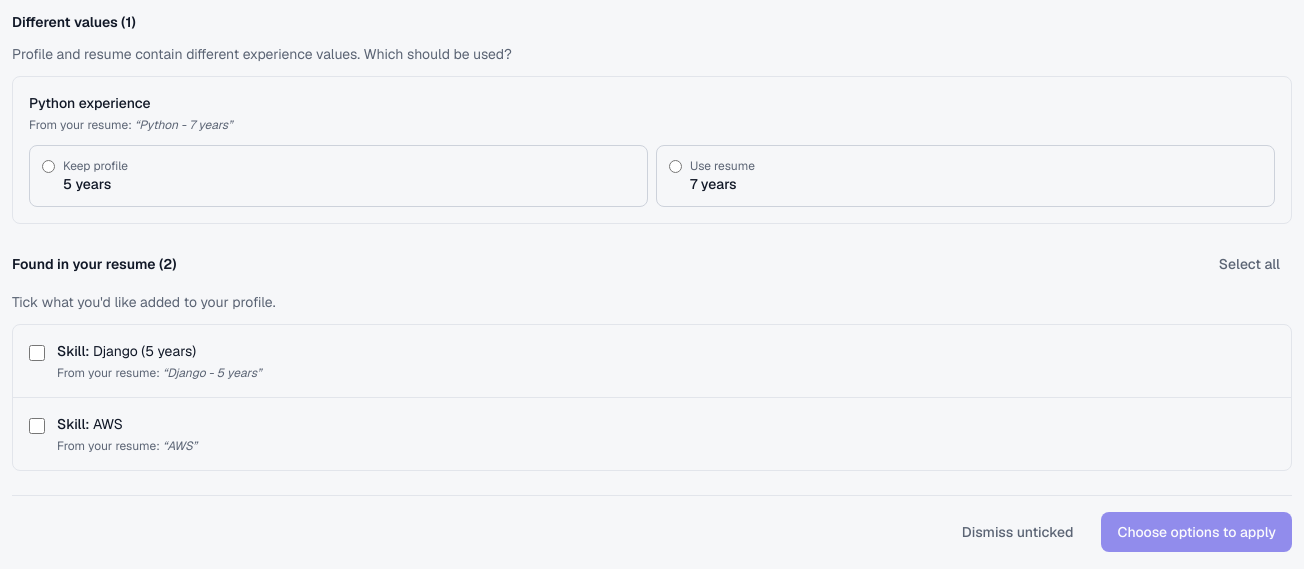
Scenario: ResumeReview › applies nothing until the user chooses, then sends exactly their choices
Expected: the button "Choose options to apply" is disabled, x1=1102 y1=512 x2=1292 y2=552
Expected: the text "Profile and resume contain different experience values. Which should be used?" is shown, x1=12 y1=45 x2=512 y2=63
What coordinates should you click on to do the following:
click the radio button with aria-label "Use resume: 7 years"
I would click on:
 (676, 166)
Its box is x1=669 y1=160 x2=682 y2=173.
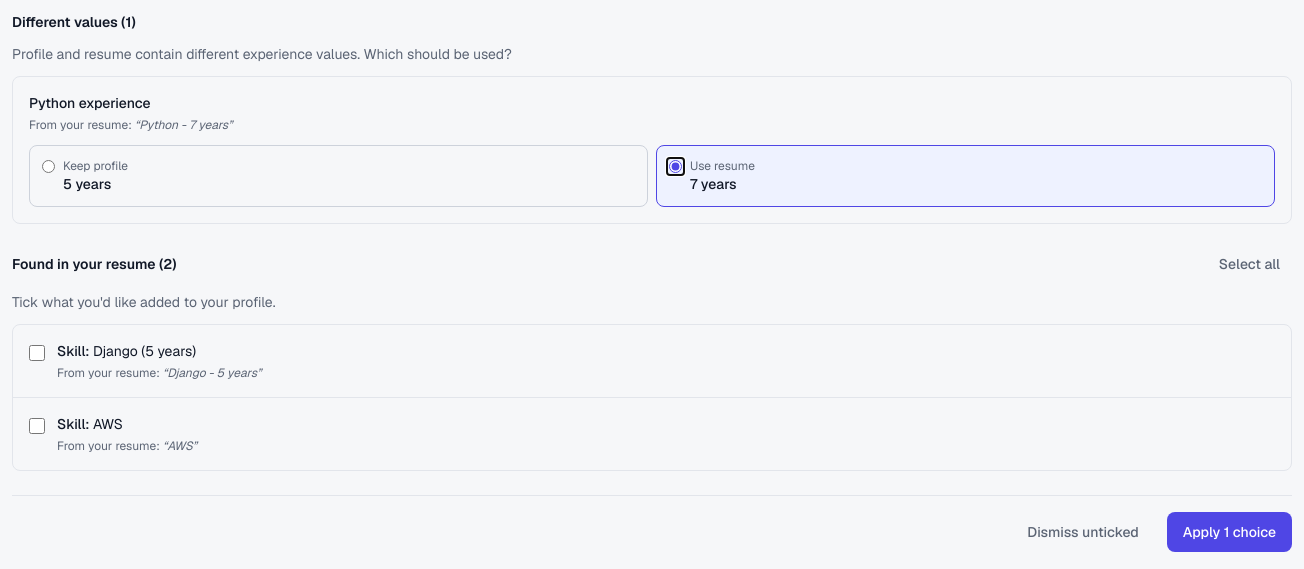
What coordinates should you click on to do the following:
click the checkbox labelled "Skill: Django (5 years) From your resume: Django - 5 years"
I would click on:
 (37, 353)
Its box is x1=29 y1=345 x2=45 y2=361.
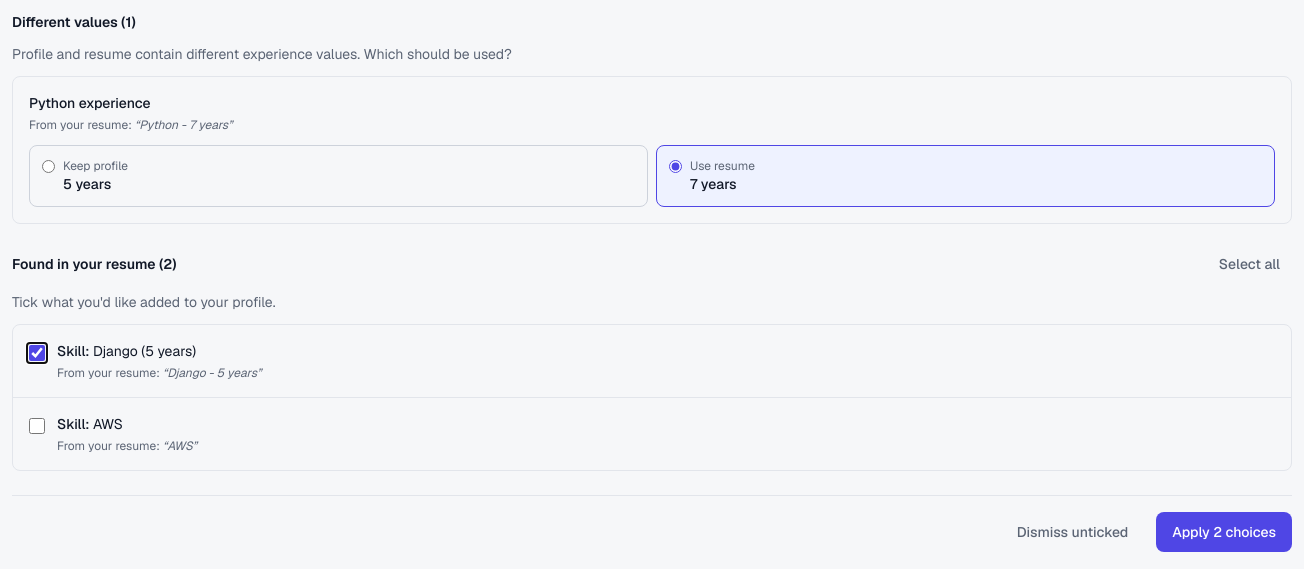
What coordinates should you click on to do the following:
click the button "Apply 2 choices"
I would click on:
 (1224, 532)
Its box is x1=1156 y1=512 x2=1292 y2=552.
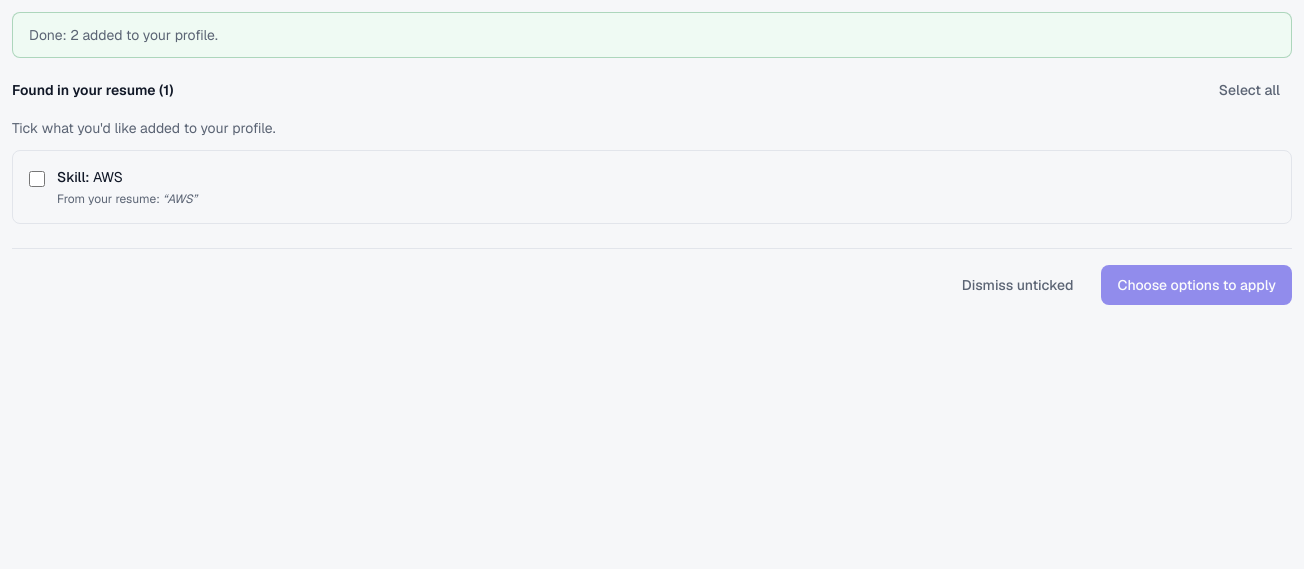
Result: the text "Done: 2 added to your profile." is shown at x1=29 y1=26 x2=218 y2=44
